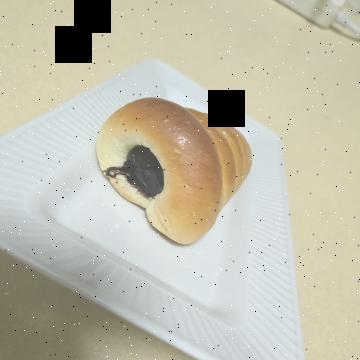cream horn: (88, 110, 262, 289)
